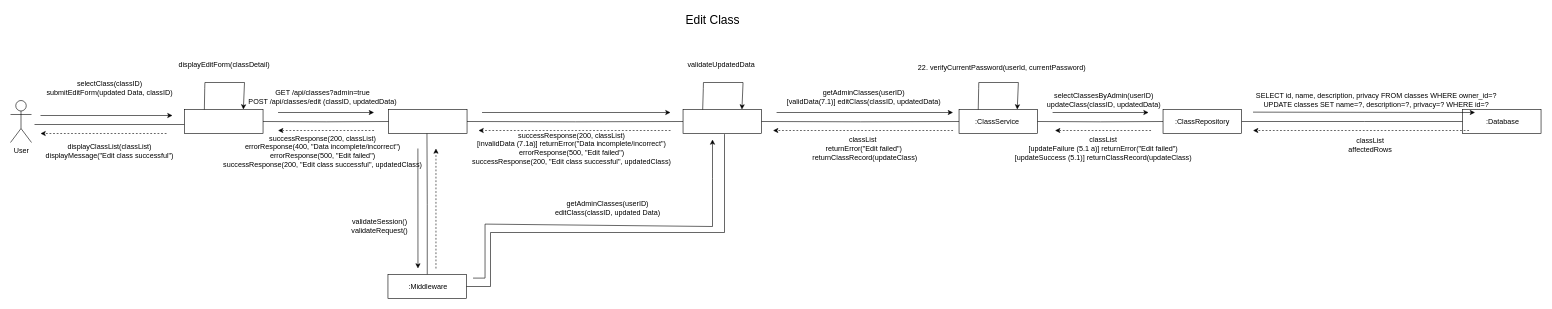
This 1552x309 diagram has some shape labels left out. The centre of each missing label's shape, as x and y in pixels:
":ClassController" goes at (722,121).
":Frontend" goes at (223,121).
":Router" goes at (427,121).
